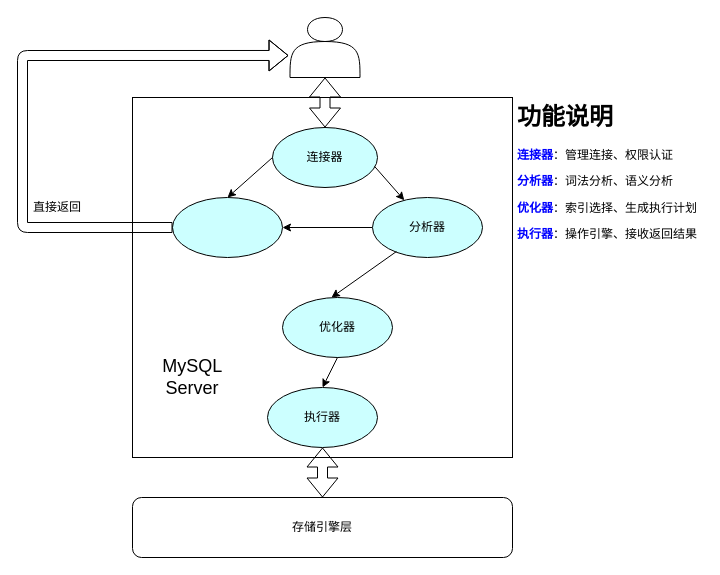
Some shapes in this 720 by 575 pixel diagram are drawn without their labels. The shapes that lost their labels are listed below. From the top down, each one's centre as x and y in pixels, then its label:
At point (324, 47): "Client APP".
At point (227, 227): "查询缓存".
